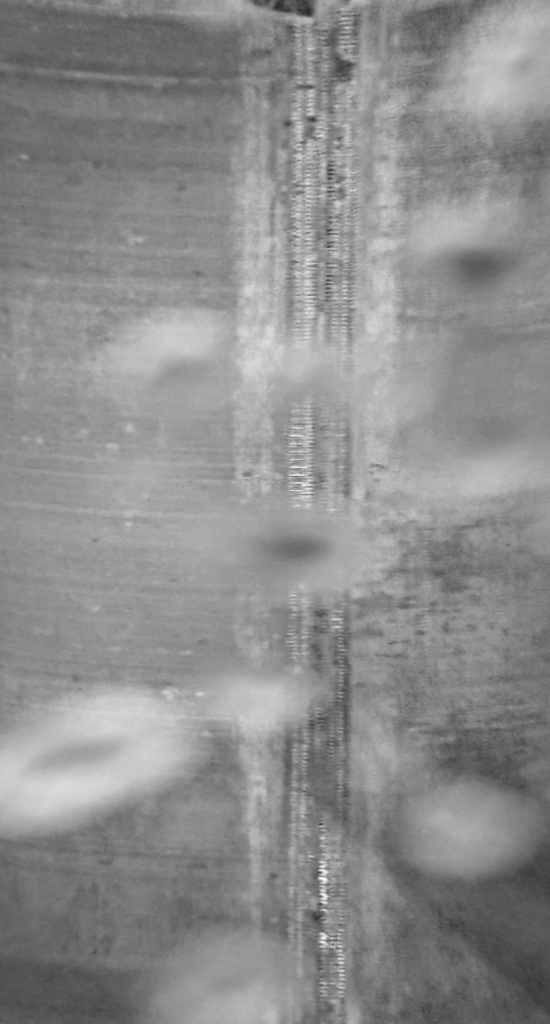splice: (285, 2, 382, 1024)
